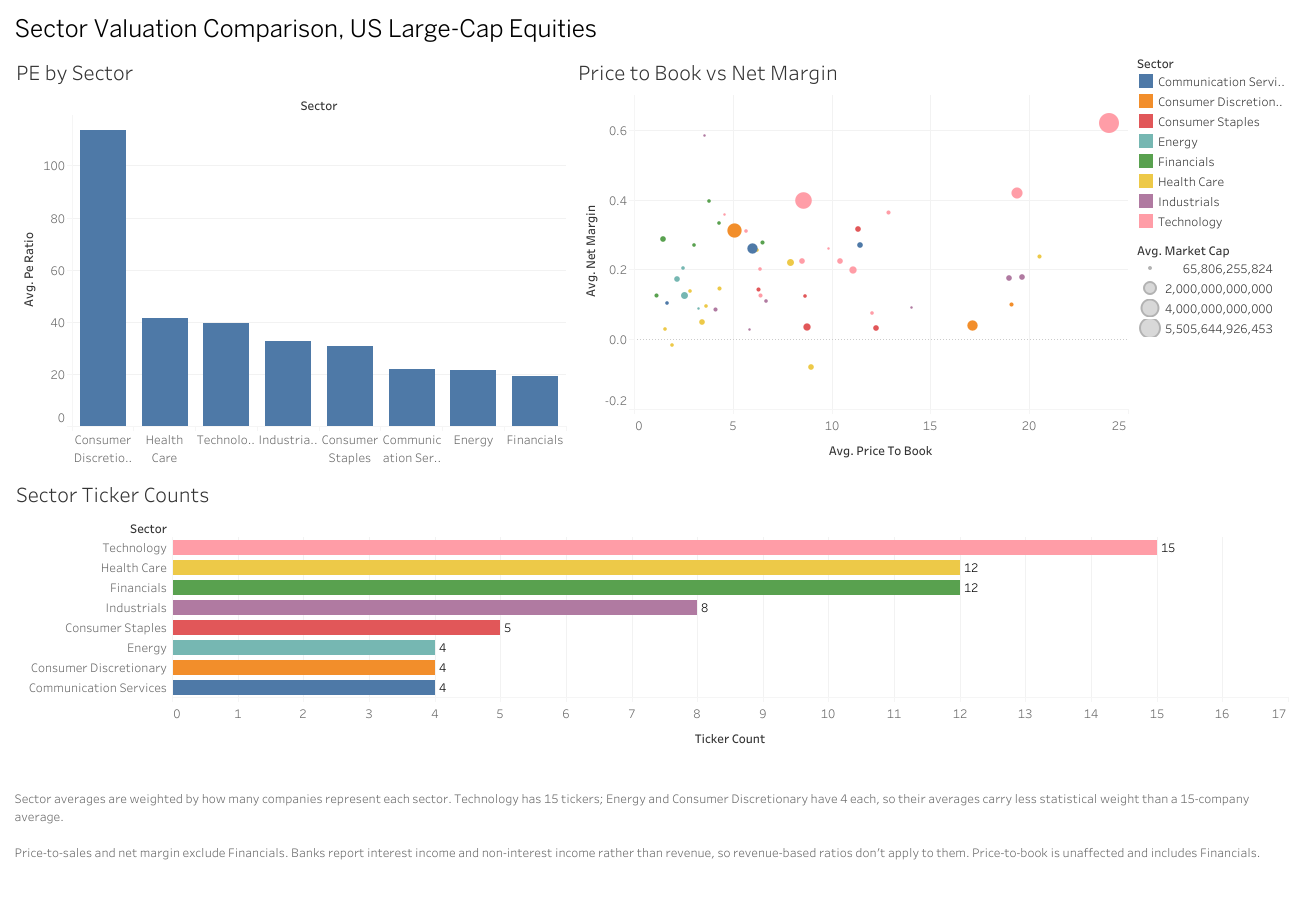

What the dashboard file says about the page in this screenshot:
{"tool":"tableau","page":{"name":"Sector Valuation Comparison, US Large-Cap Equities","canvas":[1300,900],"ordinal":0},"visuals":[{"type":"title","box":[8,8,1284,39]},{"type":"worksheet","title":"PE by Sector","mark":"Automatic","rows":["PE_RATIO"],"cols":["SECTOR"],"box":[8,47,562,422.5]},{"type":"worksheet","title":"Price to Book vs Net Margin","mark":"Circle","rows":["NET_MARGIN"],"cols":["PRICE_TO_BOOK"],"box":[570,47,562,422.5]},{"type":"legend","title":"Price to Book vs Net Margin","param":"[federated.1e7tdd20r2qcaf15pv0hi10jr9ls].[none:SECTOR:nk]","box":[1132,47,160,186]},{"type":"legend","title":"Price to Book vs Net Margin","param":"[federated.1e7tdd20r2qcaf15pv0hi10jr9ls].[avg:MARKET_CAP:qk]","box":[1132,233,160,106]},{"type":"worksheet","title":"Sector Ticker Counts","mark":"Automatic","rows":["SECTOR"],"cols":["Calculation_1499778408157184"],"box":[8,469.5,1284,288.5]},{"type":"text","box":[8,758,1284,134]}]}

Visuals, with their boxes in screenshot pixels (x1, y1, x2, y2), scaled from the page's 1300x900 canvas onto the 1299x899 screenshot:
title: select_region(8, 8, 1291, 47)
"PE by Sector" worksheet: select_region(8, 47, 570, 469)
"Price to Book vs Net Margin" worksheet (Circle marks): select_region(570, 47, 1131, 469)
"Price to Book vs Net Margin" legend: select_region(1131, 47, 1291, 233)
"Price to Book vs Net Margin" legend: select_region(1131, 233, 1291, 339)
"Sector Ticker Counts" worksheet: select_region(8, 469, 1291, 757)
text: select_region(8, 757, 1291, 891)
